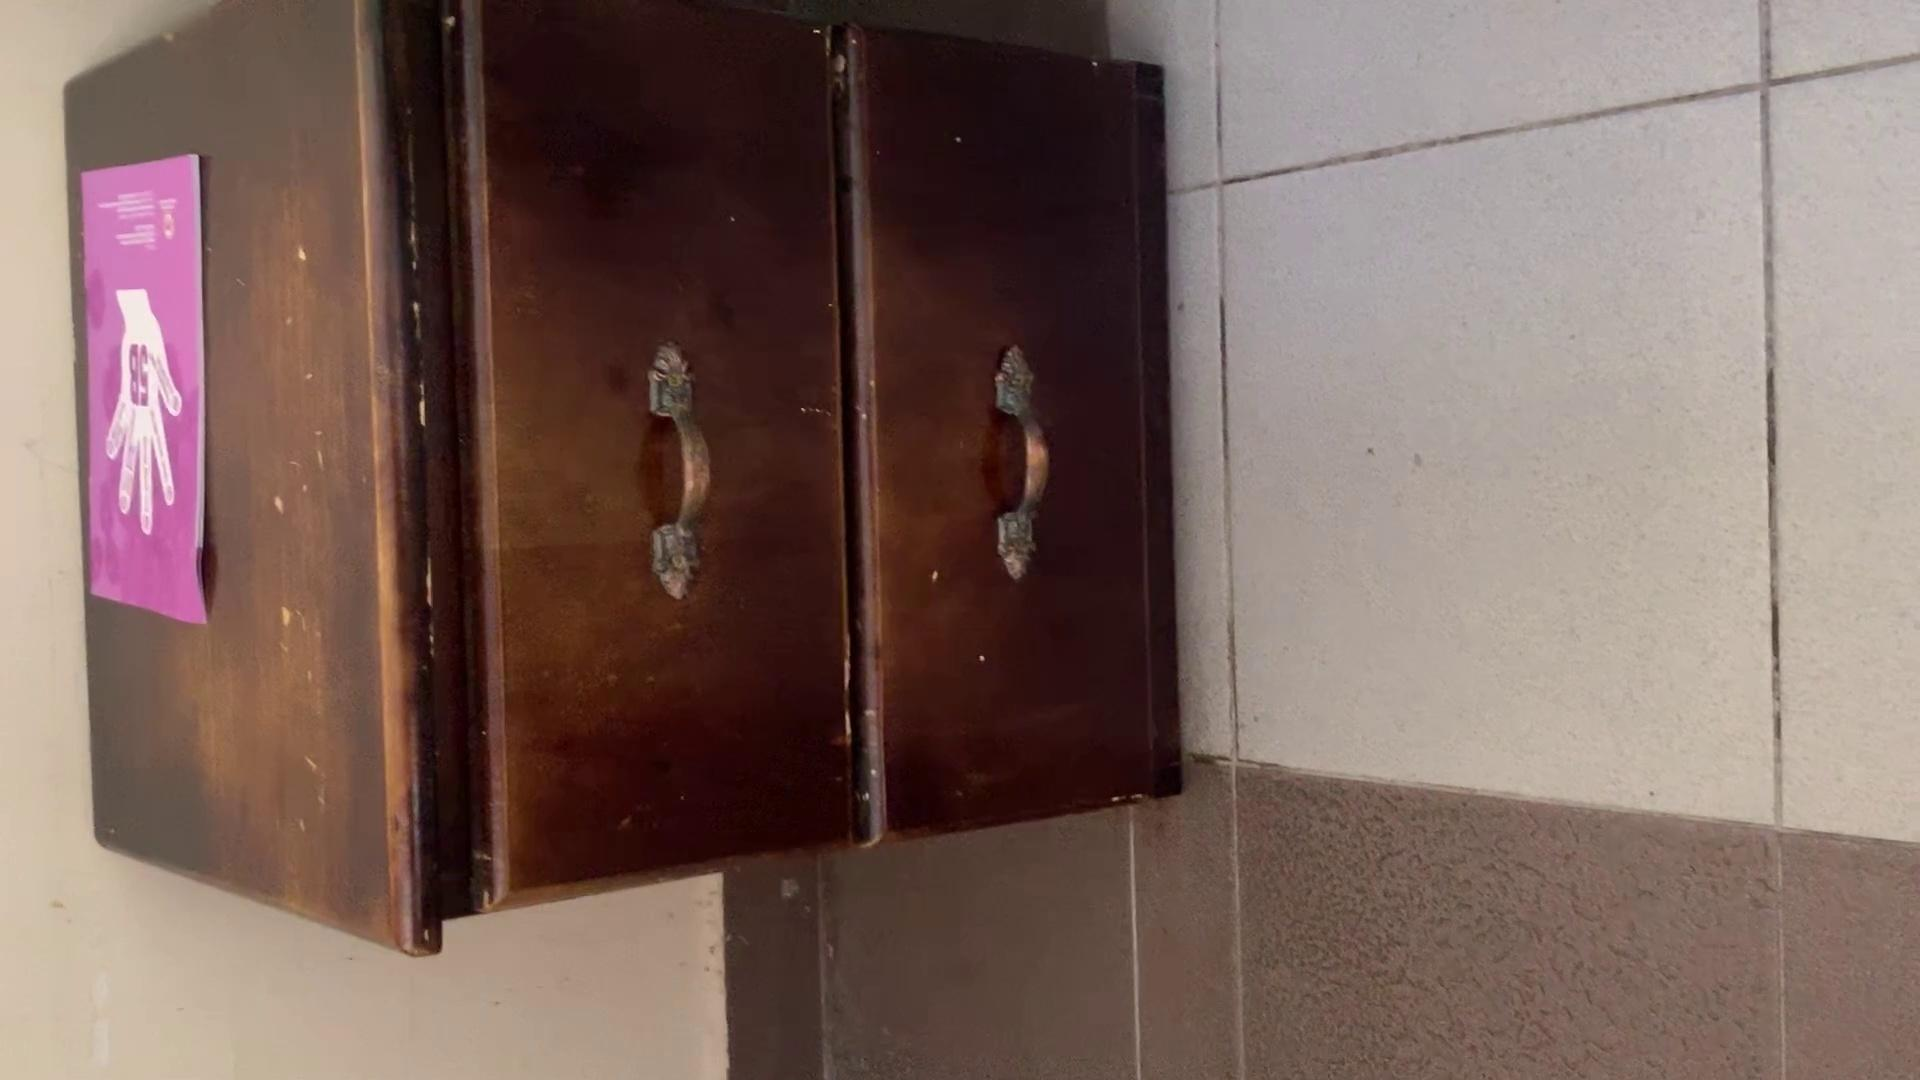cabinet_door: (467, 4, 860, 870), (852, 49, 1162, 815)
handle: (637, 339, 724, 609), (980, 342, 1062, 585)
